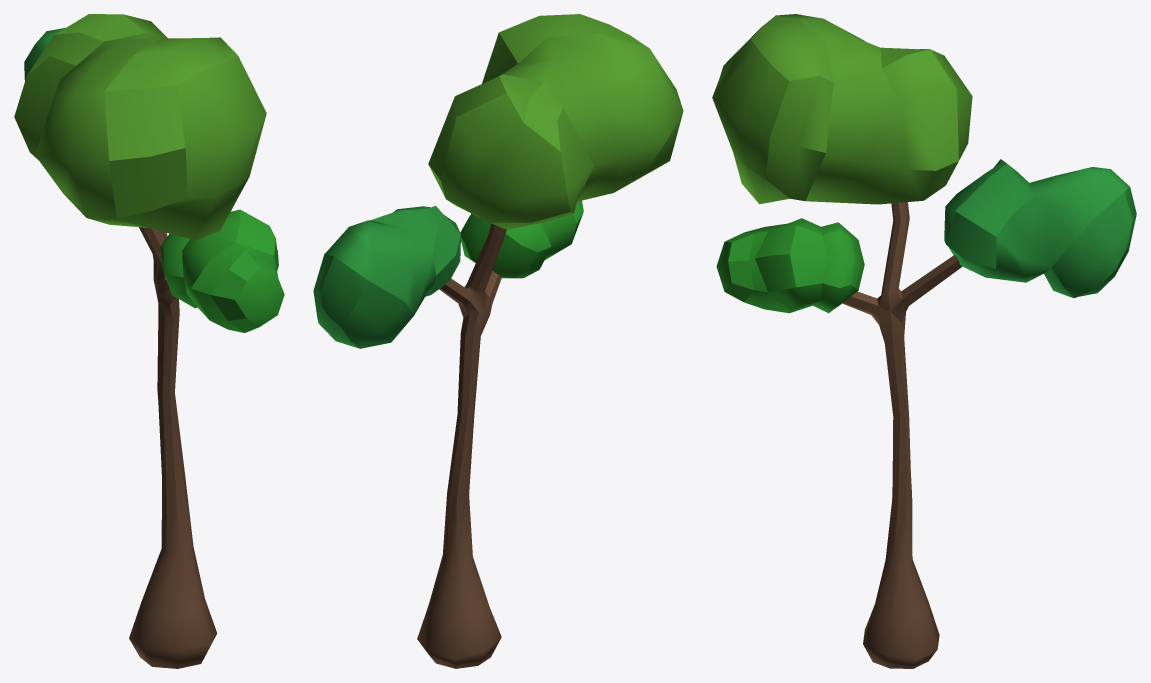
The model's file is Arbol_Grande.fbx.
3 views of the same model, side by side, from view 1: azimuth 30°, elevation 25°; view 2: azimuth 150°, elevation 25°; view 3: azimuth 270°, elevation 25° (orthographic). The views are drawn at different scales.
Parts seen in each view (by area): view 1: Hojas_Medio_ag, Tronco_ag, Hojas_izq_ag, Hojas_der_ag; view 2: Hojas_Medio_ag, Hojas_der_ag, Tronco_ag, Hojas_izq_ag; view 3: Hojas_Medio_ag, Hojas_der_ag, Tronco_ag, Hojas_izq_ag.
Part boxes in pixels (<box>): Hojas_Medio_ag: <box>14,14,266,240</box>; Tronco_ag: <box>129,227,217,668</box>; Hojas_izq_ag: <box>160,209,284,332</box>; Hojas_der_ag: <box>24,27,65,80</box>; Hojas_Medio_ag: <box>428,14,683,229</box>; Hojas_der_ag: <box>313,205,460,348</box>; Tronco_ag: <box>417,223,506,668</box>; Hojas_izq_ag: <box>460,200,583,278</box>; Hojas_Medio_ag: <box>712,14,972,204</box>; Hojas_der_ag: <box>944,159,1136,298</box>; Tronco_ag: <box>842,202,962,668</box>; Hojas_izq_ag: <box>716,218,864,313</box>.
Bounding box in the file's own units: 5.76 × 15.55 × 9.99.
